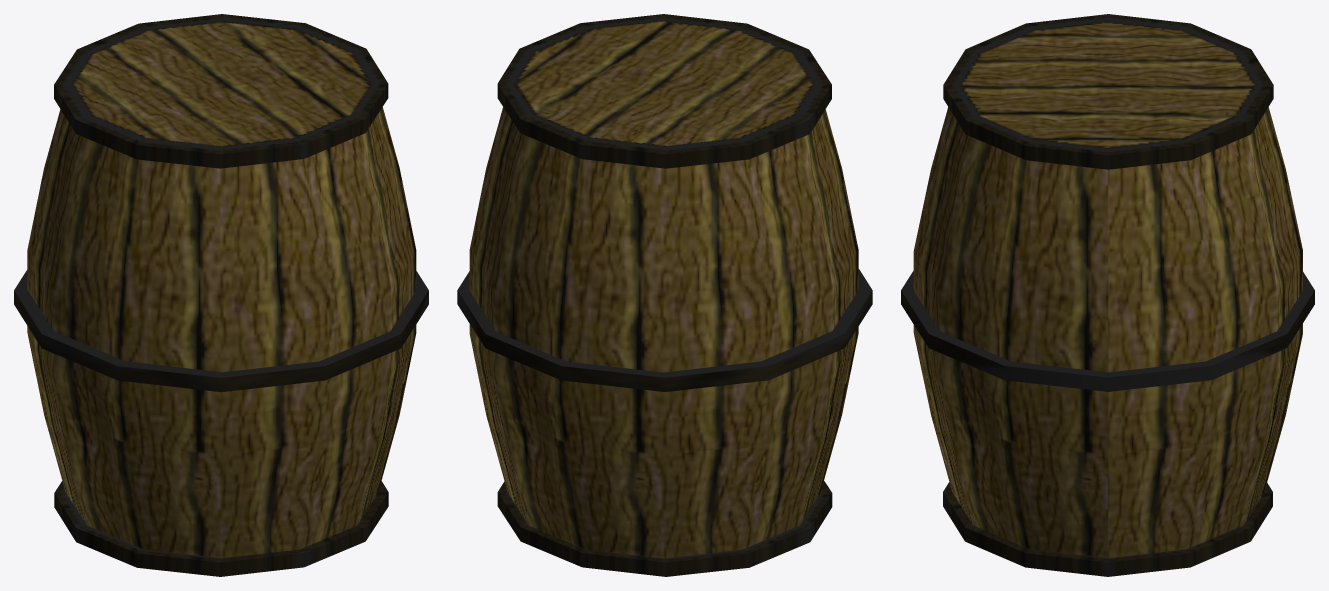
The model's file is barrel.obj.
The picture shows the model from 3 angles, left to right: view 1: azimuth 30°, elevation 25°; view 2: azimuth 150°, elevation 25°; view 3: azimuth 270°, elevation 25°; orthographic projection.
Parts seen in each view (by area): view 1: Cylinder02, Duplicate12, Cylinder03, Duplicate13; view 2: Cylinder02, Duplicate12, Cylinder03, Duplicate13; view 3: Cylinder02, Duplicate12, Cylinder03, Duplicate13.
Boxes of the visible parts, x1,y1,x2,y2 form: Cylinder02: [27, 107, 416, 558]; Duplicate12: [54, 14, 388, 168]; Cylinder03: [14, 270, 428, 392]; Duplicate13: [54, 481, 388, 576]; Cylinder02: [469, 107, 858, 558]; Duplicate12: [497, 14, 831, 168]; Cylinder03: [457, 269, 872, 391]; Duplicate13: [497, 481, 832, 576]; Cylinder02: [913, 107, 1302, 558]; Duplicate12: [943, 14, 1273, 169]; Cylinder03: [901, 271, 1314, 391]; Duplicate13: [943, 482, 1272, 576].
Bounding box in the file's own units: 25.1 × 28.21 × 25.09.
